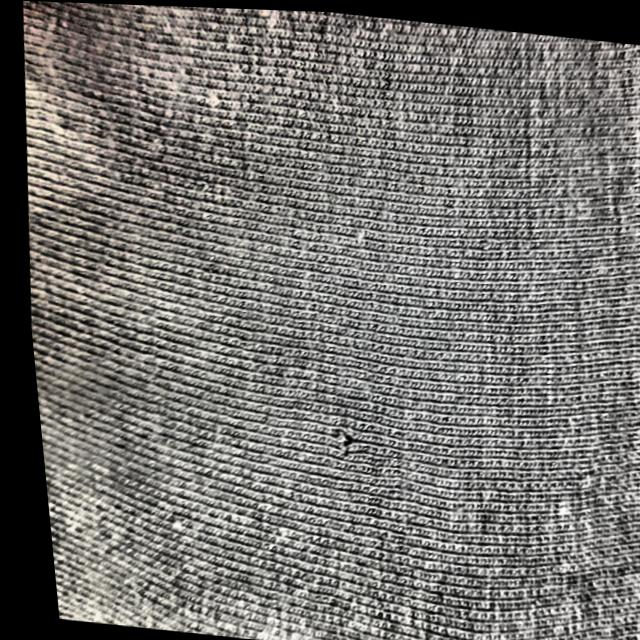Hole: (439, 350, 489, 386)
